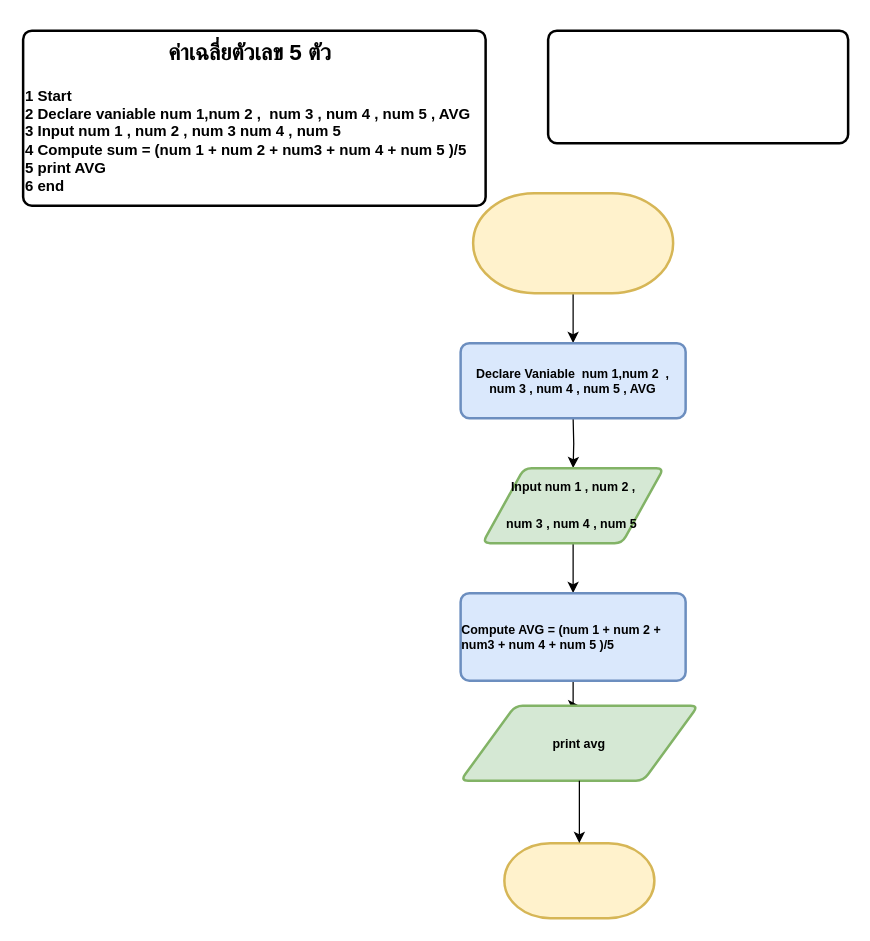
Some shapes in this 870 by 941 pixel diagram are drawn without their labels. The shapes that lost their labels are listed below. From the top down, each one's box as (x1, y1, x2, y2) in pixels, then its label:
(546, 29, 849, 144): Name Student ID : 1670700044 นายณัฐชนนท์ ศิรมลพืวัฒน์ เลขที่ 1
(471, 191, 674, 294): start
(502, 841, 655, 919): end
